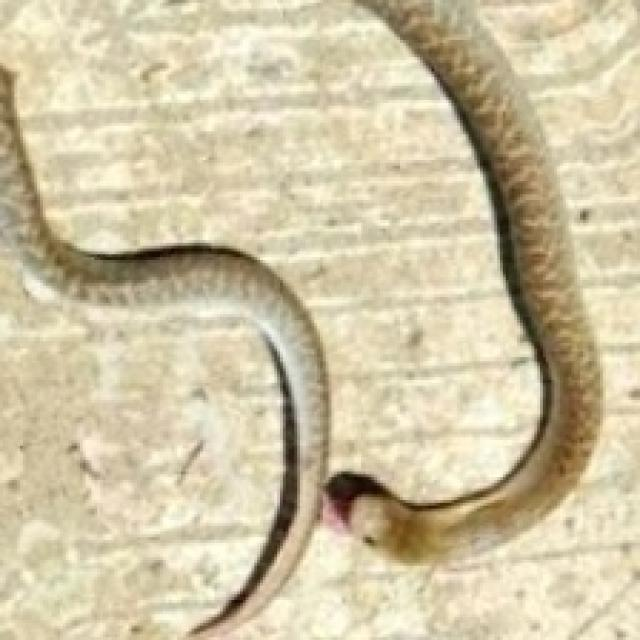philippine cobra: (0, 66, 330, 637), (331, 0, 601, 562)
